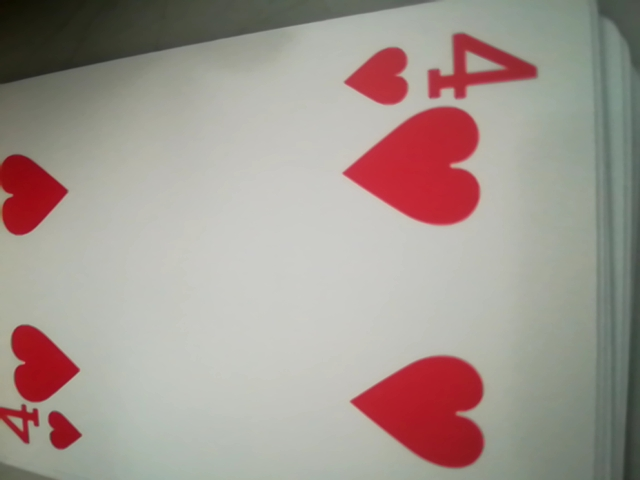hx 4: (336, 24, 543, 110)
